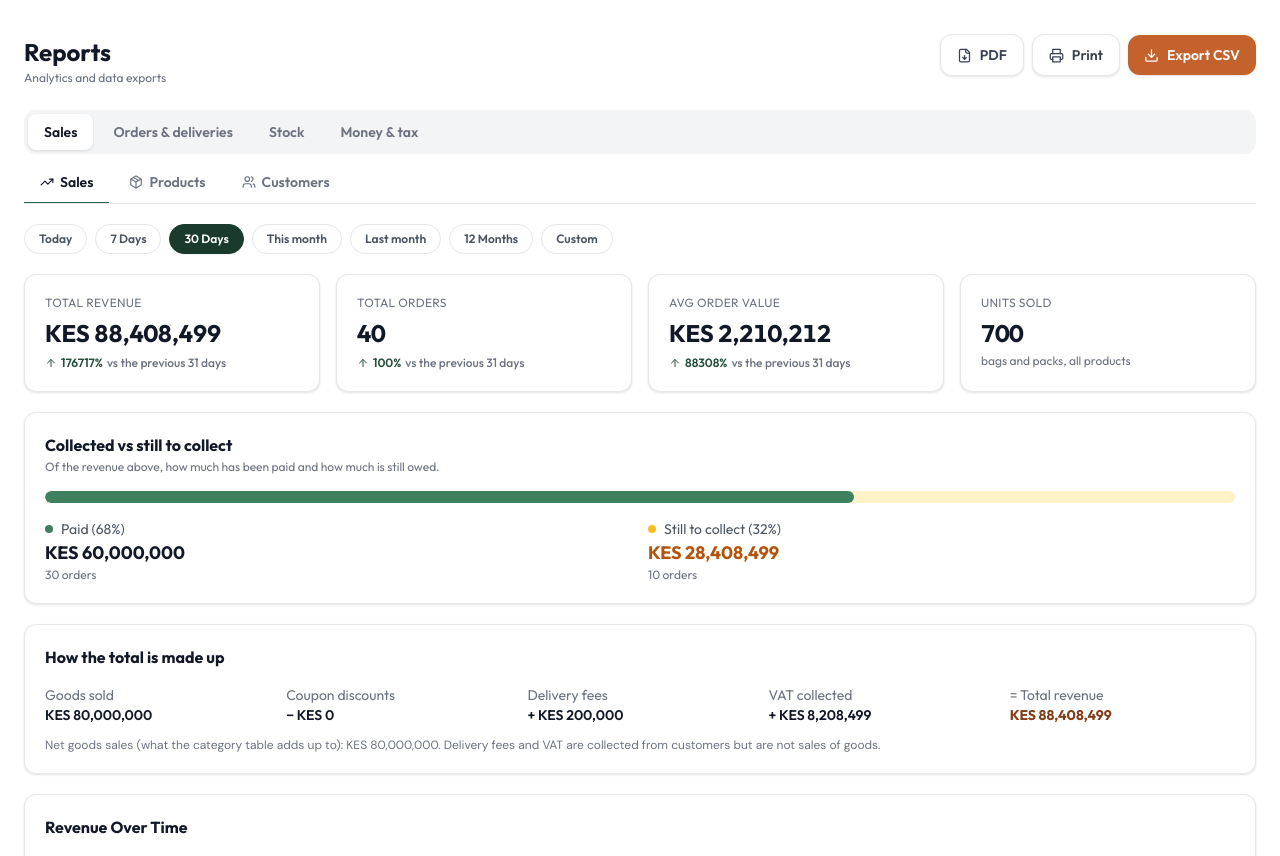
Reports page: periods › tells the accountant how many VAT orders eTIMS was never told about
Click the button "Money & tax" at (379, 132), box [324,114,434,150]
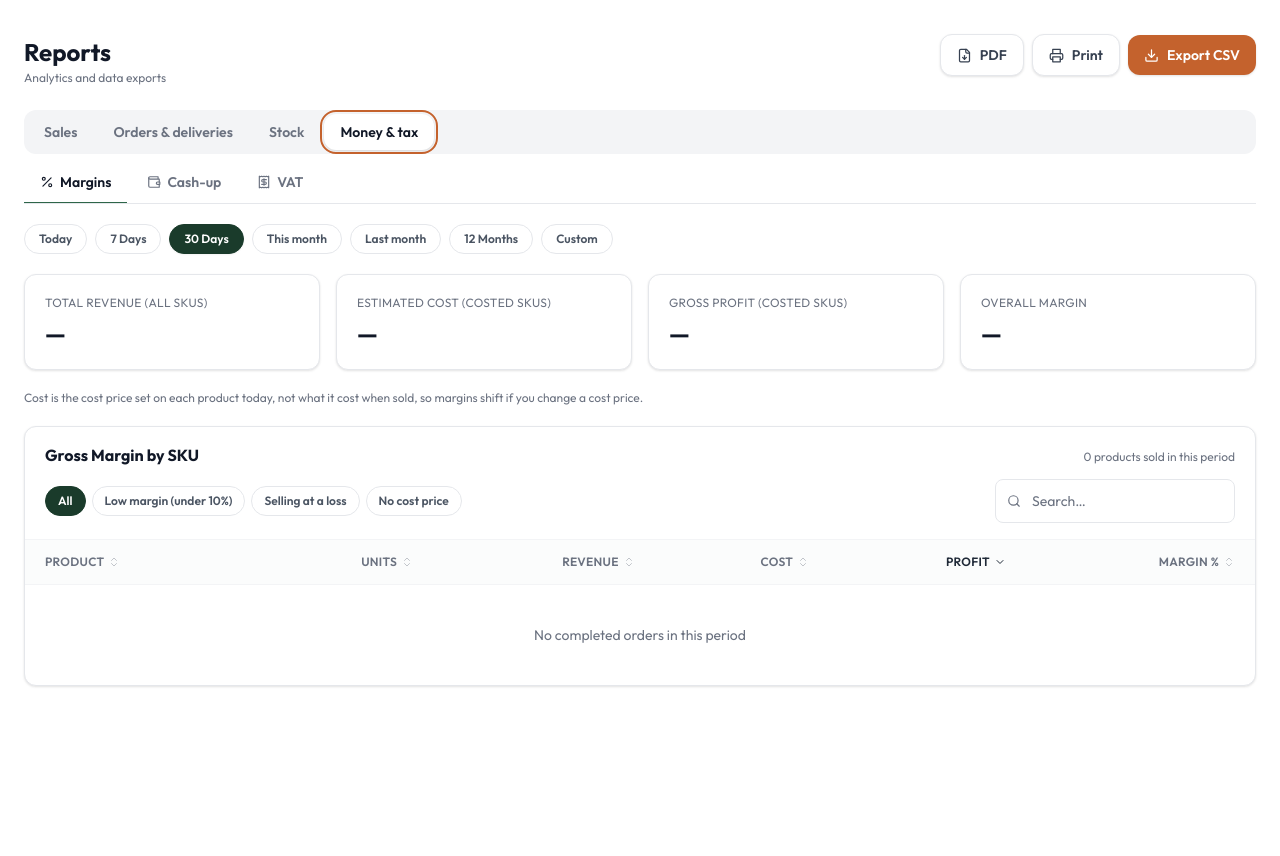
Click the tab "VAT" at (280, 183), box [241,162,319,204]
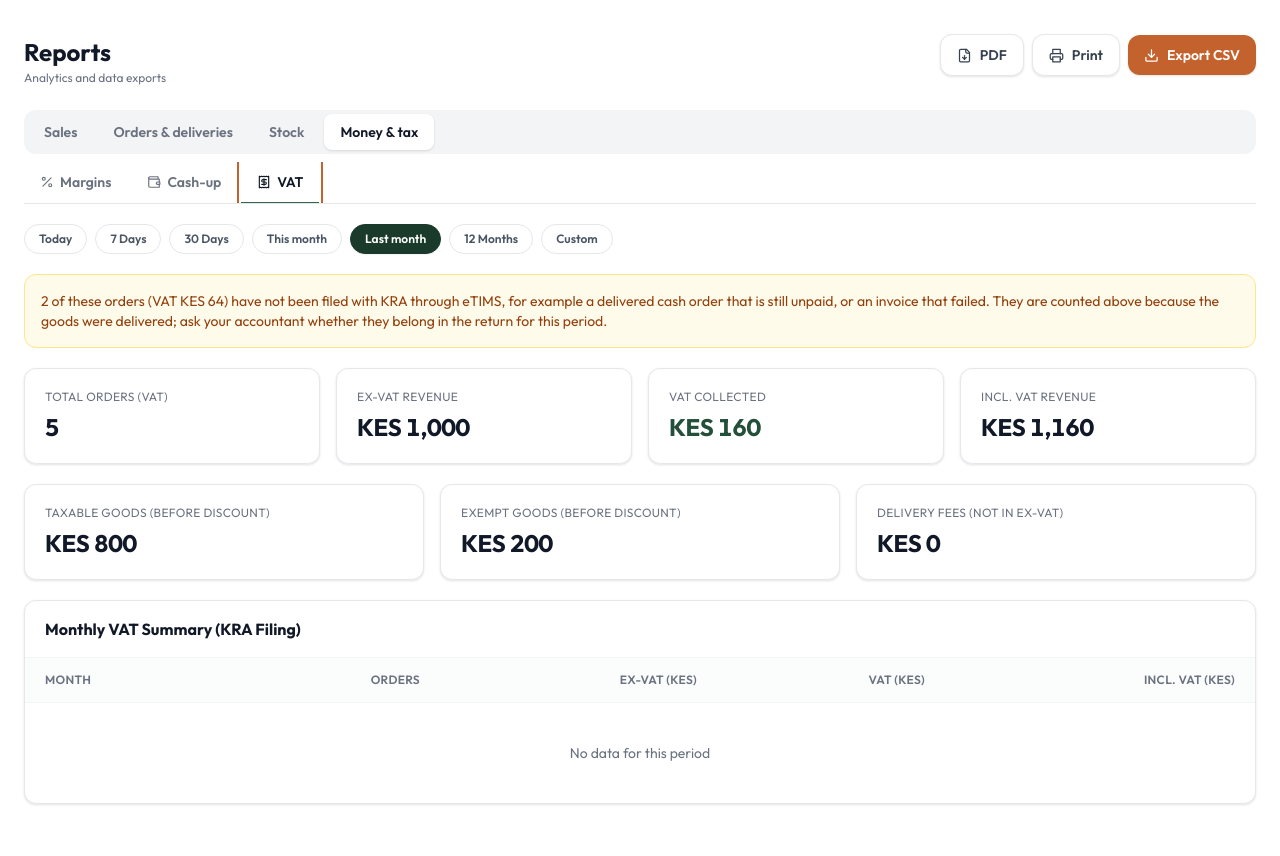
Expected: the text "2 of these orders" is shown, [24,274,1256,348]
